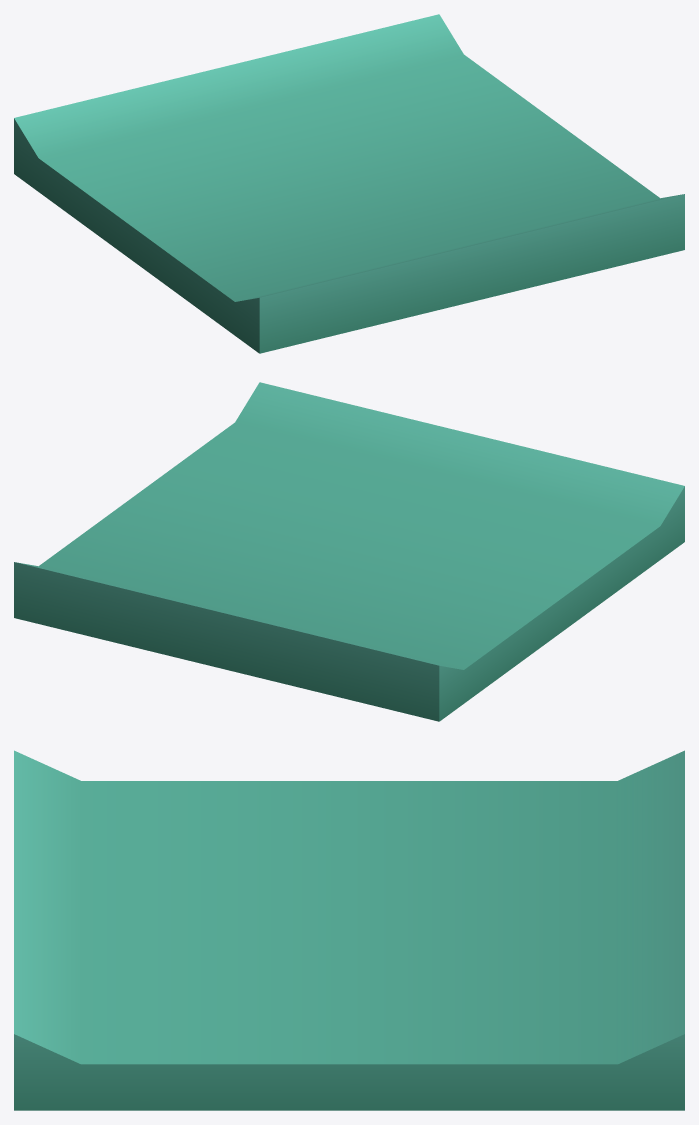
File: roof-flat.glb
3 views of the same model, one above another, from view 1: azimuth 30°, elevation 25°; view 2: azimuth 150°, elevation 25°; view 3: azimuth 270°, elevation 25° (orthographic). The views are drawn at different scales.
Visible parts, largest first — view 1: roof-flat; view 2: roof-flat; view 3: roof-flat.
Part boxes in pixels (bbox=[...]): roof-flat: bbox=[14, 14, 684, 353]; roof-flat: bbox=[14, 382, 684, 721]; roof-flat: bbox=[14, 750, 684, 1110].
Size of the model in its own units: 1 by 0.1259 by 1.
1 material, 1 textured.
